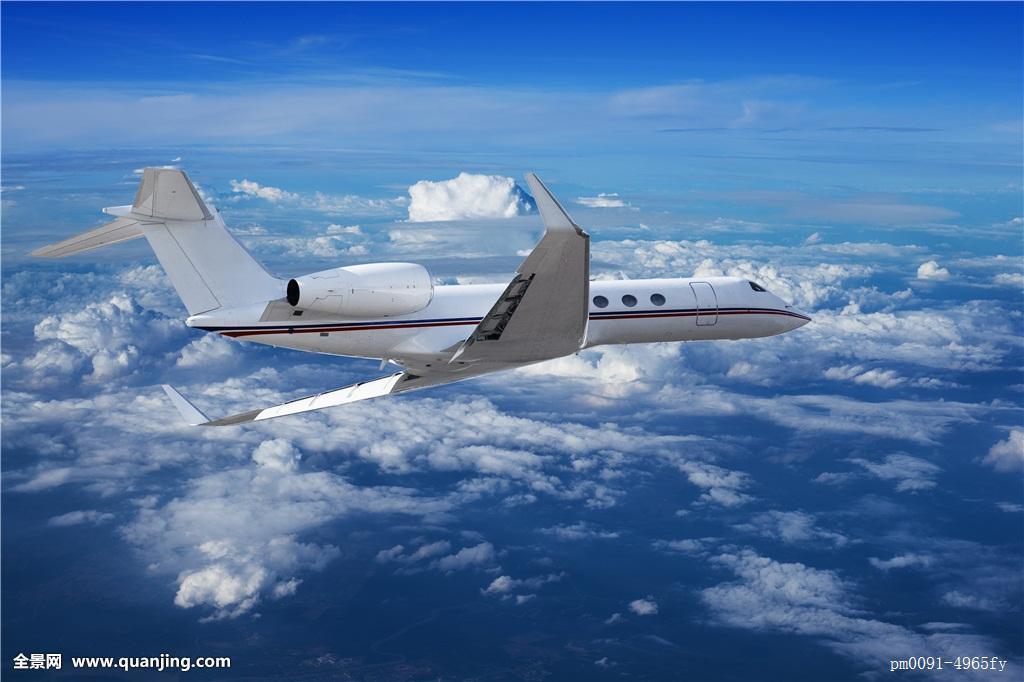airplane: (58, 162, 816, 432)
